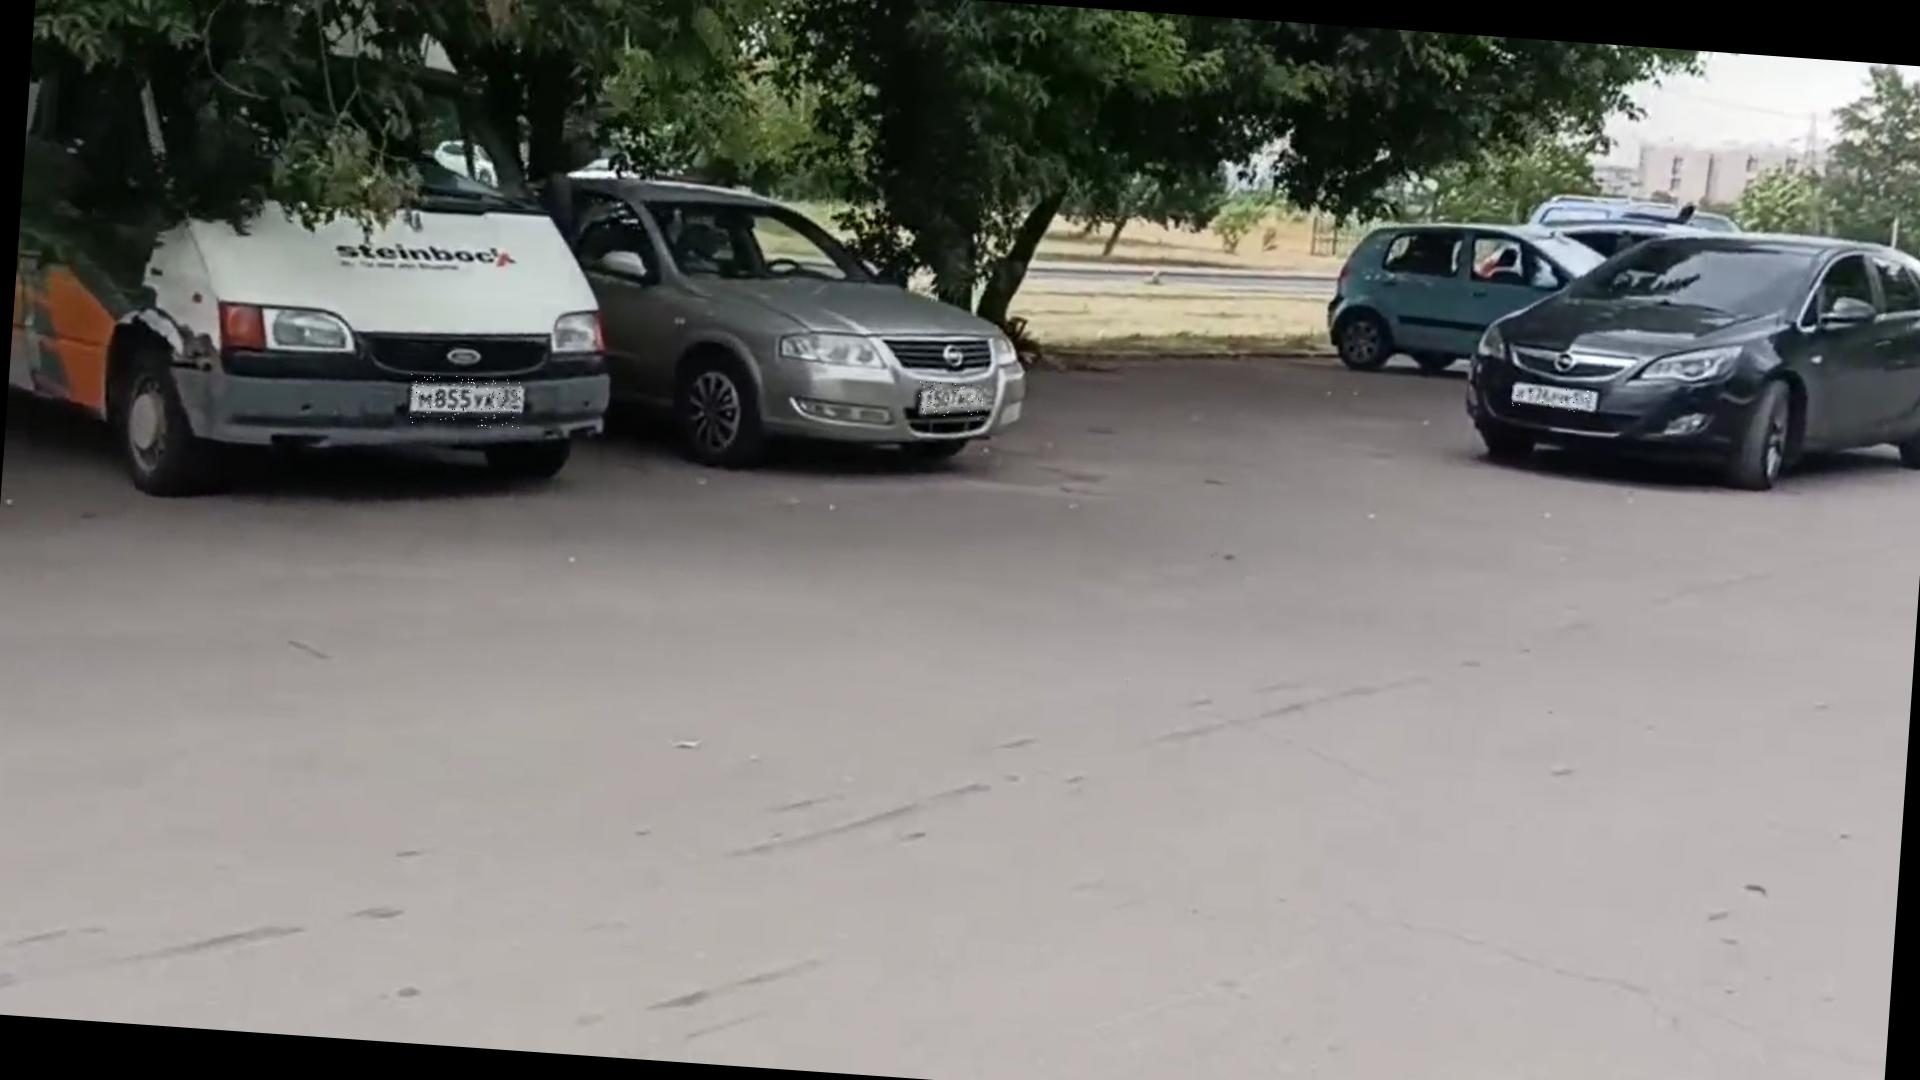plate: (409, 373, 523, 432), (918, 382, 988, 422), (1513, 386, 1607, 415)
